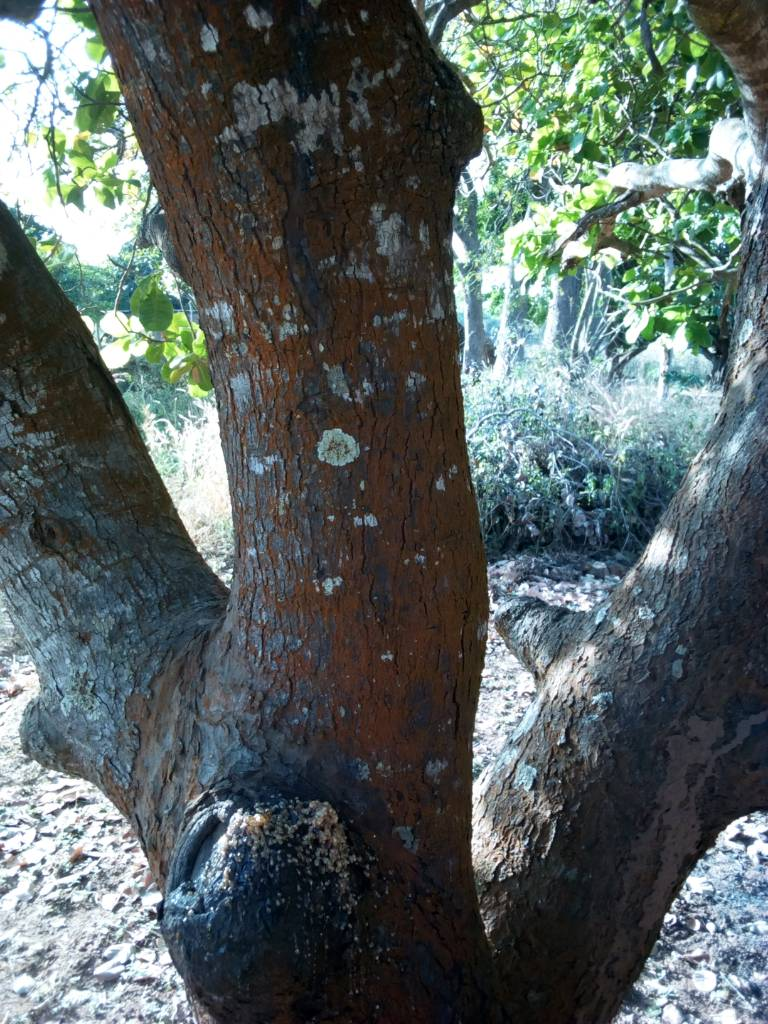Apate terebrans: (135, 766, 411, 1022)
